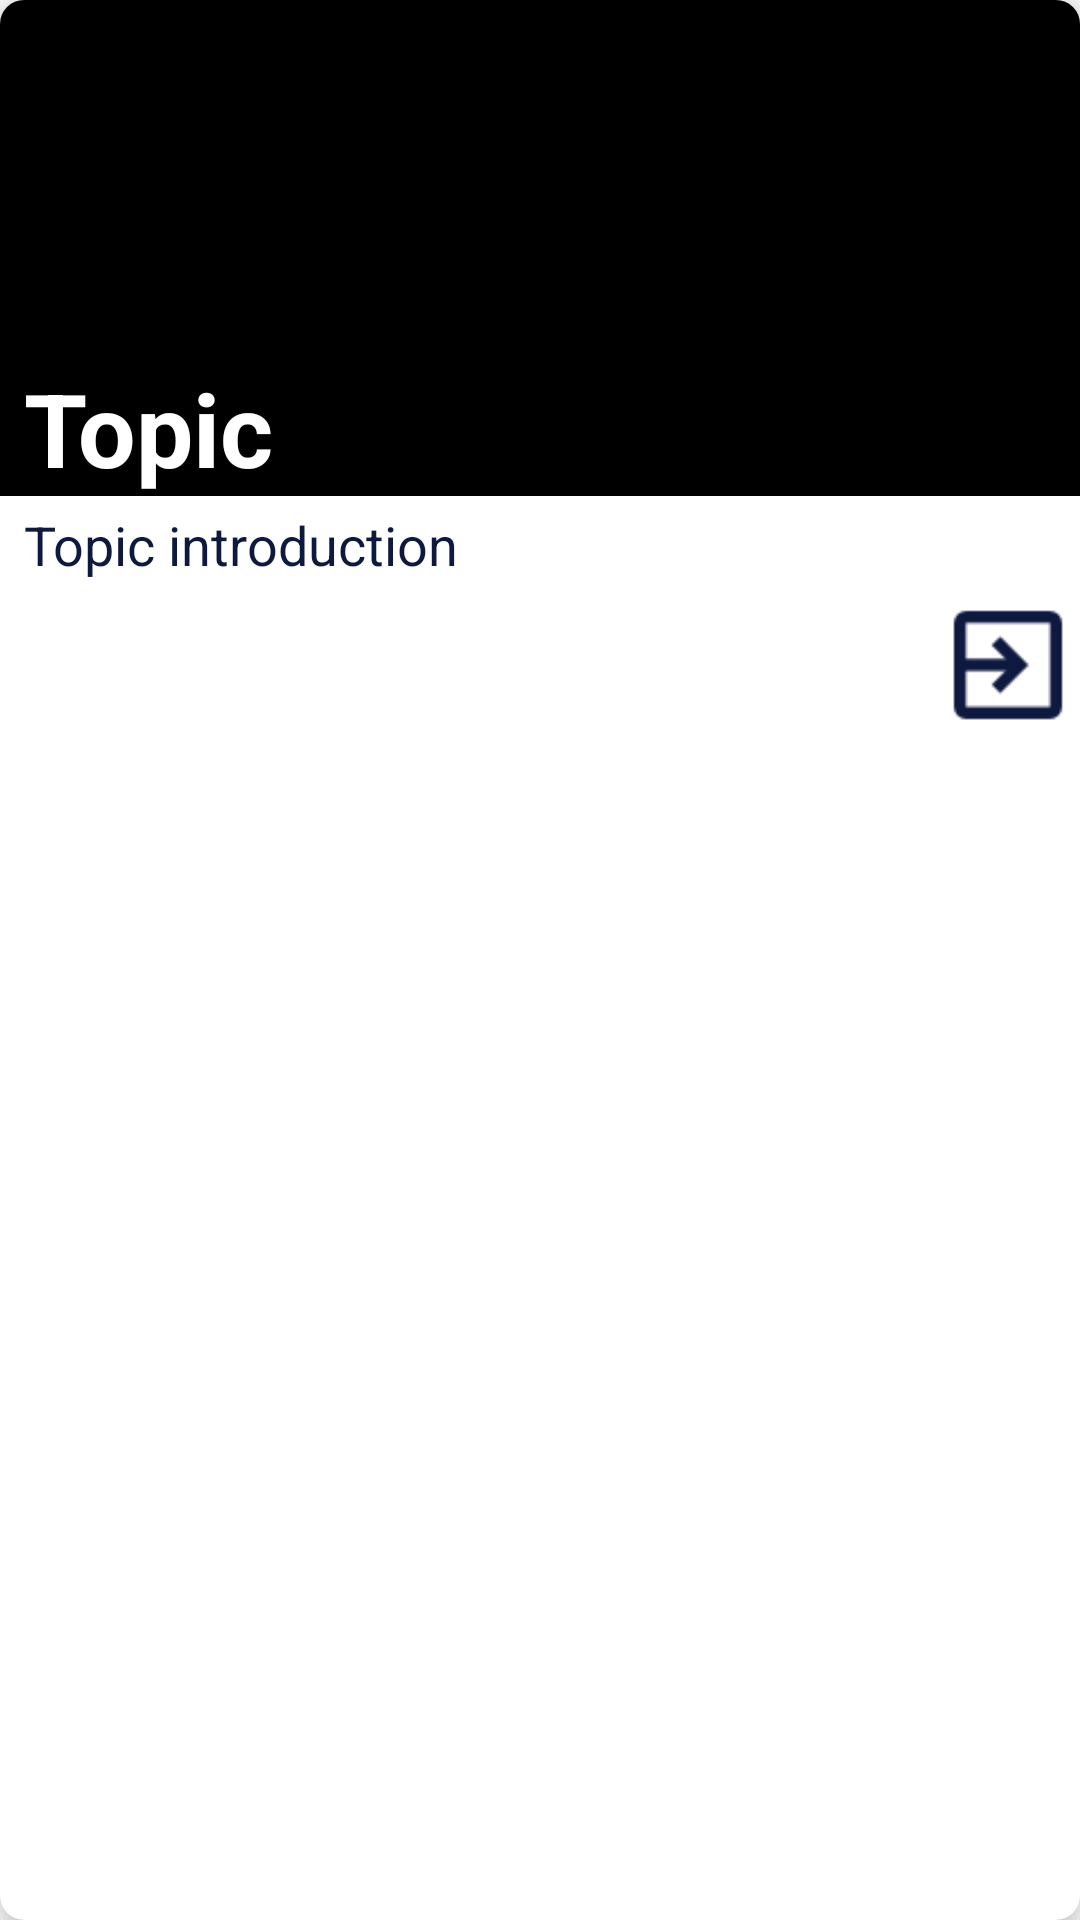

Where to tap for icons on this 1080px×1920px app screen, as (x=x, y=y):
enter: (x=1008, y=665)
